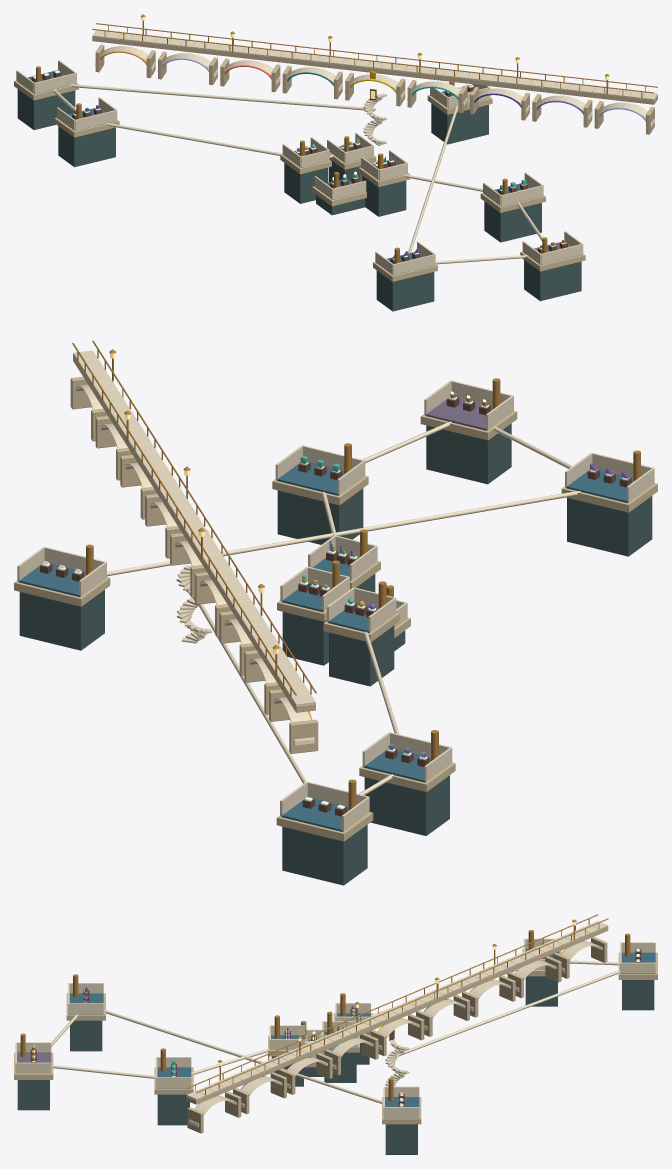
The model's file is kontextia-labore.glb.
The picture shows the model from 3 angles, top to bottom: view 1: azimuth 30°, elevation 25°; view 2: azimuth 150°, elevation 25°; view 3: azimuth 270°, elevation 25°; orthographic projection. The views are drawn at different scales.
Parts seen in each view (by area): view 1: bridge__0, bridge__2, bridge__3, Laborgeschoss unter: Stufengebirge deep foundation, Laborgeschoss unter: Kartenwald und Bedeutungsgarten deep fo, Laborgeschoss unter: Lernschmiede im Geschichtsviertel deep , Laborgeschoss unter: Kästnerviertel deep foundation, Laborgeschoss unter: Stadtmauer am Meer (Blick aufs Quellena, Laborgeschoss unter: Tokenhafen mit Rathaus deep foundation, Laborgeschoss unter: Logitmarkt auf der Turmspitze deep foun, Laborgeschoss unter: Sternwarte im Turm der Schichten deep f, Published laboratory corridor (+11 smaller); view 2: bridge__0, bridge__2, Laborgeschoss unter: Stadtmauer am Meer (Blick aufs Quellena (×3), Laborgeschoss unter: Stufengebirge deep foundation, Laborgeschoss unter: Tokenhafen mit Rathaus deep foundation, Laborgeschoss unter: Lernschmiede im Geschichtsviertel deep , Laborgeschoss unter: Kartenwald und Bedeutungsgarten deep fo, Laborgeschoss unter: Kästnerviertel deep foundation, bridge__3, Laborgeschoss unter: Sternwarte im Turm der Schichten deep f, Published laboratory corridor.008, Laborgeschoss unter: Werkstätten im Turm der Schichten deep  (+11 smaller); view 3: bridge__2, bridge__0, bridge__3, Laborgeschoss unter: Stadtmauer am Meer (Blick aufs Quellena (×3), Laborgeschoss unter: Stufengebirge deep foundation, Laborgeschoss unter: Lernschmiede im Geschichtsviertel deep , Laborgeschoss unter: Tokenhafen mit Rathaus deep foundation, Laborgeschoss unter: Kästnerviertel deep foundation, Published laboratory corridor.008, Laborgeschoss unter: Kartenwald und Bedeutungsgarten deep fo, Published laboratory corridor, Laborgeschoss unter: Werkstätten im Turm der Schichten deep  (+8 smaller).
Boxes of the visible parts, left/top/right/bottom form: bridge__0: left=92, top=30, right=657, bottom=127; bridge__2: left=92, top=36, right=657, bottom=134; bridge__3: left=92, top=14, right=657, bottom=97; Laborgeschoss unter: Stufengebirge deep foundation: left=376, top=270, right=434, bottom=311; Laborgeschoss unter: Kartenwald und Bedeutungsgarten deep fo: left=58, top=126, right=115, bottom=167; Laborgeschoss unter: Lernschmiede im Geschichtsviertel deep : left=524, top=260, right=581, bottom=301; Laborgeschoss unter: Kästnerviertel deep foundation: left=484, top=201, right=541, bottom=242; Laborgeschoss unter: Stadtmauer am Meer (Blick aufs Quellena: left=431, top=103, right=488, bottom=144; Laborgeschoss unter: Tokenhafen mit Rathaus deep foundation: left=17, top=89, right=75, bottom=129; Laborgeschoss unter: Logitmarkt auf der Turmspitze deep foun: left=362, top=176, right=406, bottom=216; Laborgeschoss unter: Sternwarte im Turm der Schichten deep f: left=284, top=163, right=327, bottom=203; Published laboratory corridor: left=69, top=84, right=375, bottom=111; bridge__0: left=73, top=350, right=315, bottom=745; bridge__2: left=70, top=355, right=318, bottom=753; Laborgeschoss unter: Stadtmauer am Meer (Blick aufs Quellena (×3): left=14, top=563, right=110, bottom=650; Laborgeschoss unter: Stufengebirge deep foundation: left=567, top=496, right=652, bottom=556; Laborgeschoss unter: Tokenhafen mit Rathaus deep foundation: left=282, top=824, right=367, bottom=885; Laborgeschoss unter: Lernschmiede im Geschichtsviertel deep : left=426, top=423, right=511, bottom=484; Laborgeschoss unter: Kartenwald und Bedeutungsgarten deep fo: left=364, top=775, right=449, bottom=835; Laborgeschoss unter: Kästnerviertel deep foundation: left=277, top=488, right=363, bottom=544; bridge__3: left=72, top=340, right=316, bottom=696; Laborgeschoss unter: Sternwarte im Turm der Schichten deep f: left=329, top=625, right=394, bottom=686; Published laboratory corridor.008: left=107, top=491, right=580, bottom=576; Laborgeschoss unter: Werkstätten im Turm der Schichten deep : left=282, top=612, right=328, bottom=665; bridge__2: left=186, top=926, right=608, bottom=1133; bridge__0: left=186, top=921, right=607, bottom=1127; bridge__3: left=186, top=914, right=608, bottom=1095; Laborgeschoss unter: Stadtmauer am Meer (Blick aufs Quellena (×3): left=382, top=1097, right=421, bottom=1154; Laborgeschoss unter: Stufengebirge deep foundation: left=70, top=1020, right=102, bottom=1051; Laborgeschoss unter: Lernschmiede im Geschichtsviertel deep : left=17, top=1080, right=49, bottom=1110; Laborgeschoss unter: Tokenhafen mit Rathaus deep foundation: left=622, top=980, right=654, bottom=1010; Laborgeschoss unter: Kästnerviertel deep foundation: left=157, top=1094, right=189, bottom=1125; Published laboratory corridor.008: left=103, top=1009, right=383, bottom=1103; Laborgeschoss unter: Kartenwald und Bedeutungsgarten deep fo: left=525, top=976, right=557, bottom=1006; Published laboratory corridor: left=396, top=970, right=619, bottom=1056; Laborgeschoss unter: Werkstätten im Turm der Schichten deep : left=324, top=1052, right=356, bottom=1082.
Size of what is drawn, in the model's own units: 55.61 by 14.16 by 73.5.
